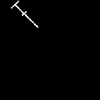double_crochet: (11, 1, 37, 26)
